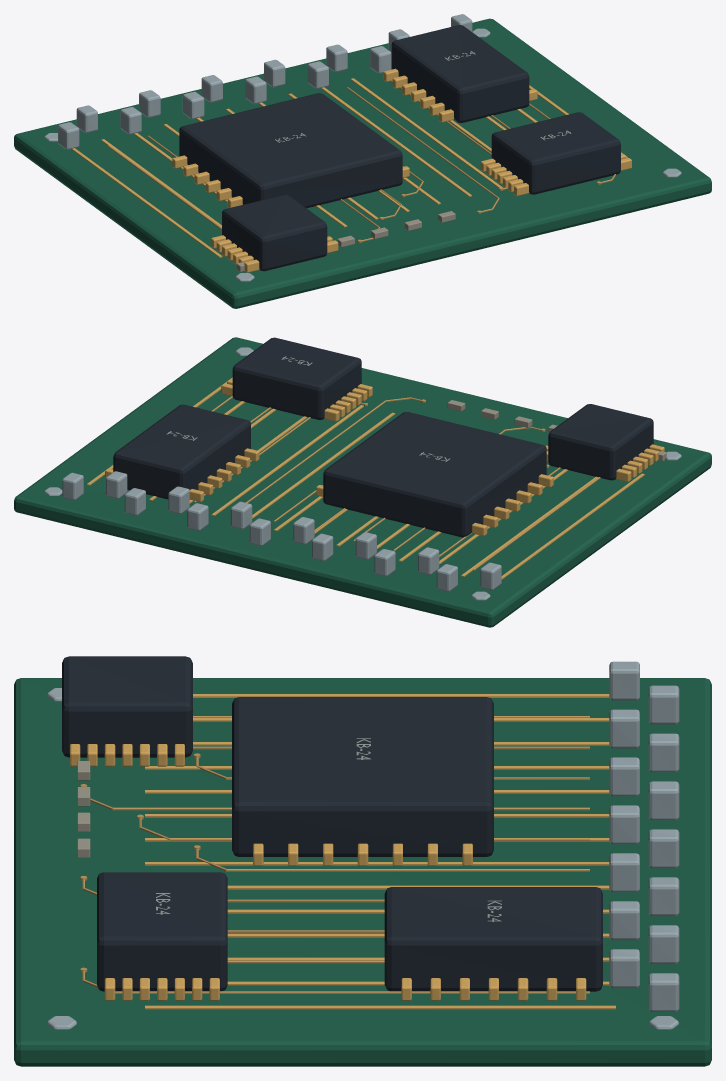
The model's file is pcb.glb.
3 renders of one model, top to bottom at view 1: azimuth 30°, elevation 25°; view 2: azimuth 150°, elevation 25°; view 3: azimuth 270°, elevation 25°, orthographic. The views are drawn at different scales.
Parts seen in each view (by area): view 1: pcb; view 2: pcb; view 3: pcb.
Boxes of the visible parts, x1=… form: pcb: x1=14, y1=14, x2=711, y2=308; pcb: x1=14, y1=337, x2=711, y2=627; pcb: x1=14, y1=656, x2=711, y2=1066.
Size of the model in its own units: 1 by 0.102 by 0.8.
